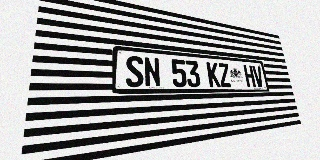3: (185, 60, 201, 87)
5: (171, 59, 187, 87)
H: (243, 65, 256, 87)
K: (206, 62, 221, 87)
N: (143, 57, 161, 87)
S: (125, 55, 144, 87)
V: (252, 66, 264, 87)
Z: (217, 63, 232, 87)
